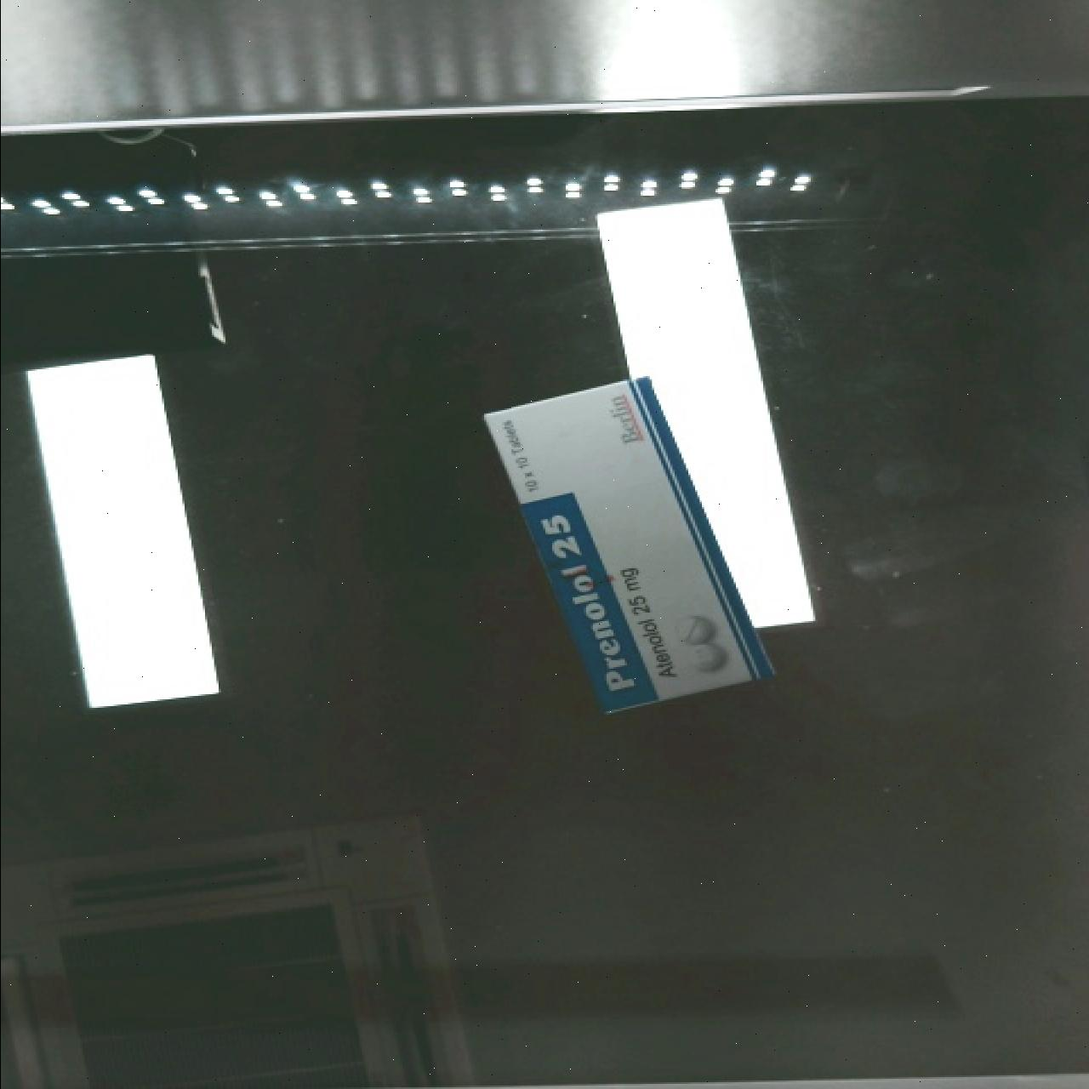medicine_label_obb: (516, 482, 656, 718)
